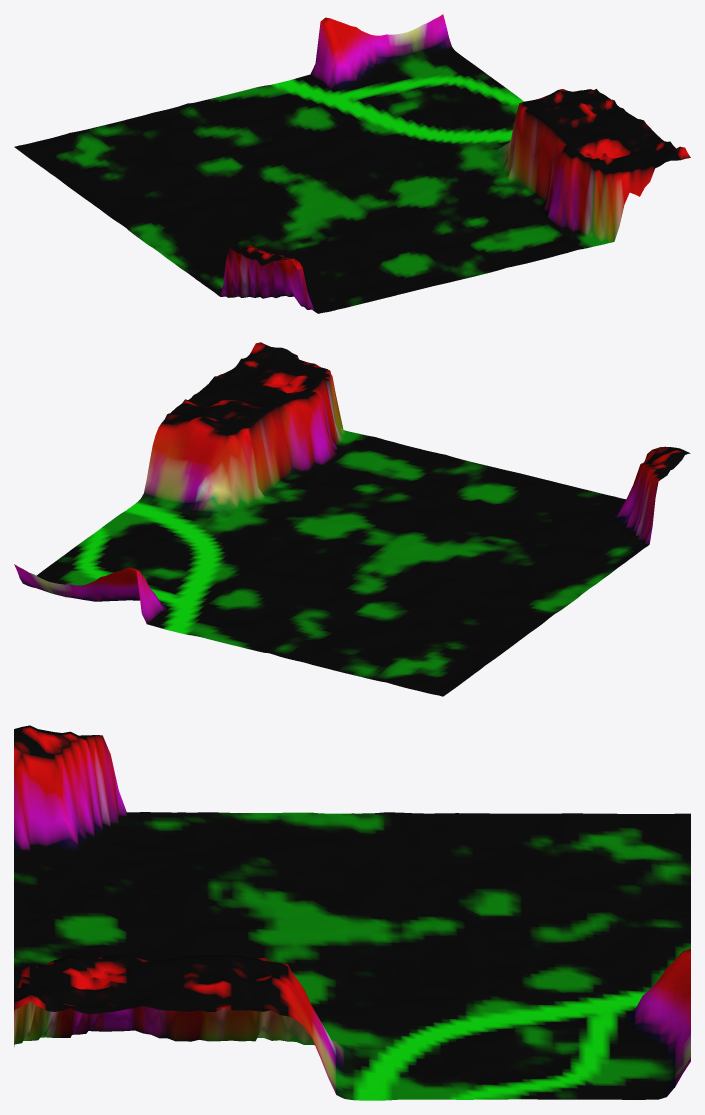
Rendered from SM_AlUla_Terrain_0_1.fbx.
3 renders of one model, top to bottom at view 1: azimuth 30°, elevation 25°; view 2: azimuth 150°, elevation 25°; view 3: azimuth 270°, elevation 25°, orthographic. The views are drawn at different scales.
Parts seen in each view (by area): view 1: SM_AlUla_Terrain_0_1; view 2: SM_AlUla_Terrain_0_1; view 3: SM_AlUla_Terrain_0_1.
Boxes of the visible parts, x1=… form: SM_AlUla_Terrain_0_1: x1=14, y1=14, x2=690, y2=313; SM_AlUla_Terrain_0_1: x1=14, y1=342, x2=690, y2=696; SM_AlUla_Terrain_0_1: x1=14, y1=725, x2=690, y2=1100.
Bounding box in the file's own units: 50400 × 8403 × 50400.
